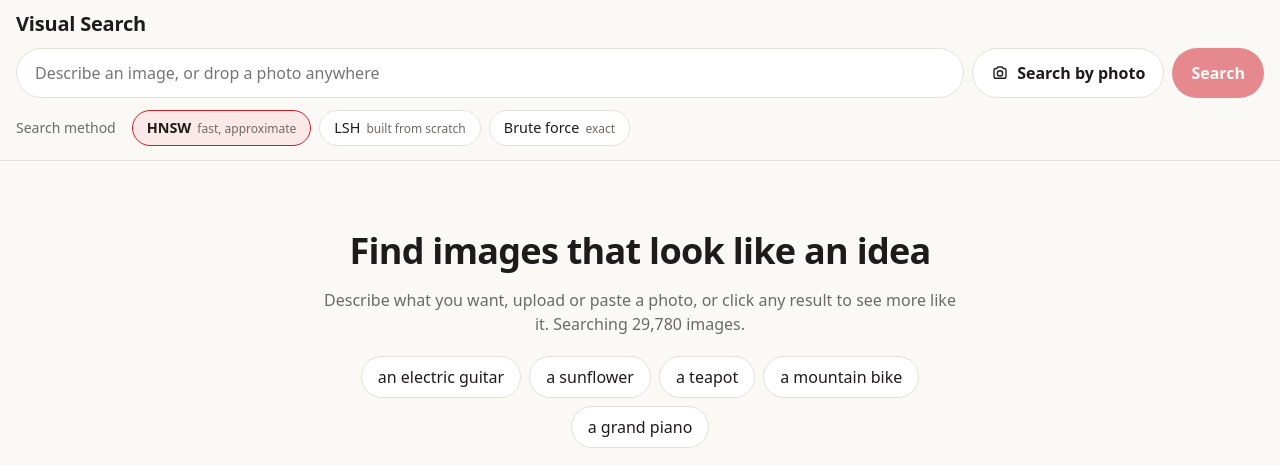
Test: App › tells the user when a method returns nothing, and clears back to the start
Step 1. Click the button "a teapot" → (707, 377), box [659,356,755,398]
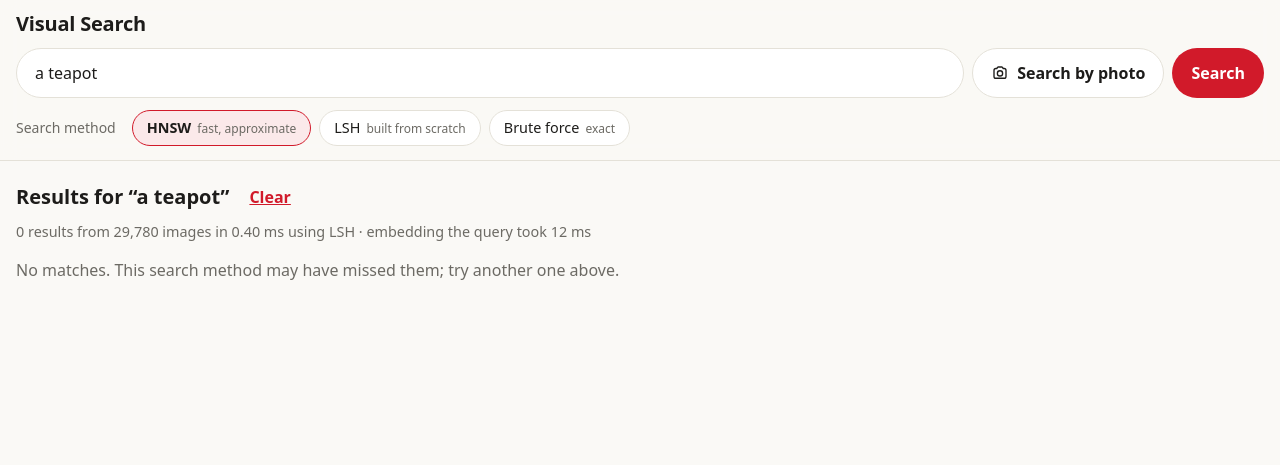
Now the text "No matches" is shown, box [16,259,619,281]
Step 2. Click the button "Clear" → (270, 197), box [241,181,299,213]
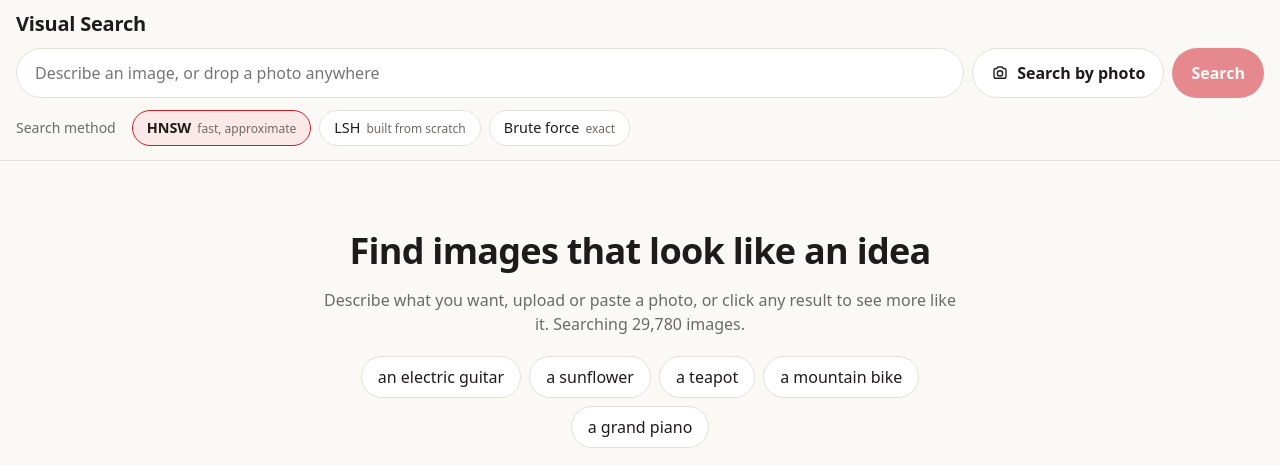
Now the heading "Find images that look like an idea" is shown, box [320,229,960,272]
Now the search field is empty, box [16,48,964,98]
